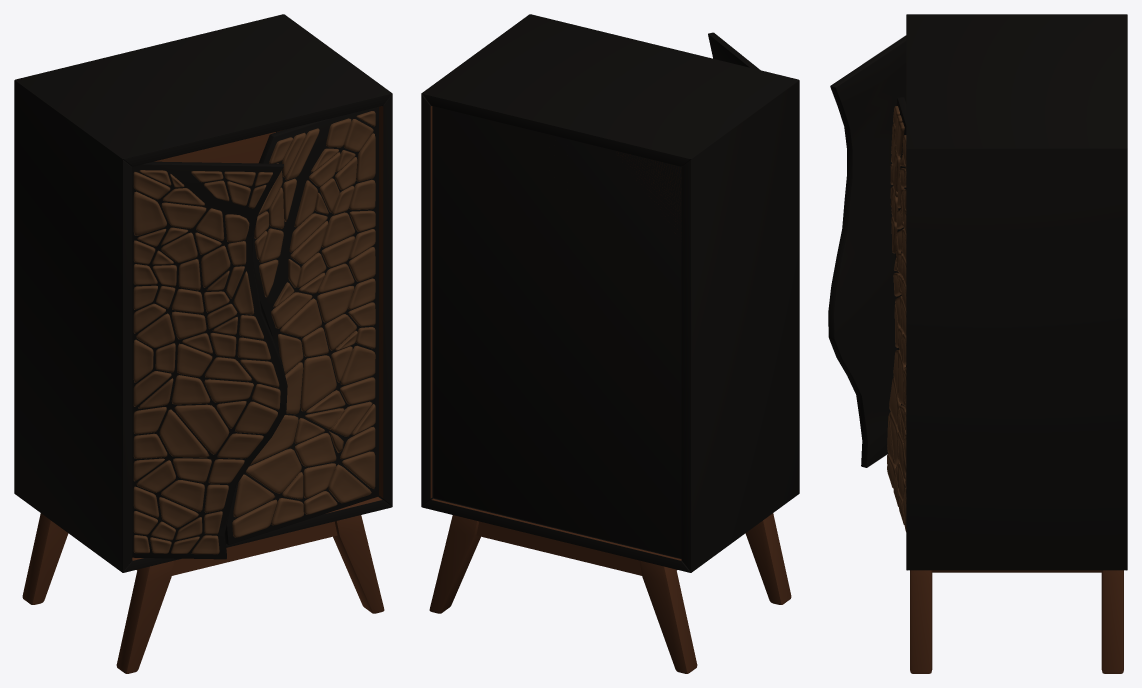
File: Decor closet.fbx
3 views of the same model, side by side, from view 1: azimuth 30°, elevation 25°; view 2: azimuth 150°, elevation 25°; view 3: azimuth 270°, elevation 25° (orthographic).
Visible parts, largest first — view 1: decor closet, door decor closet L, door decor closet R, legs decor closet; view 2: decor closet, legs decor closet, door decor closet L; view 3: decor closet, door decor closet L, door decor closet R, legs decor closet.
Boxes of the visible parts, left/top/right/bottom form: decor closet: left=14, top=14, right=392, bottom=572; door decor closet L: left=131, top=161, right=287, bottom=559; door decor closet R: left=225, top=106, right=378, bottom=544; legs decor closet: left=22, top=513, right=384, bottom=673; decor closet: left=421, top=14, right=799, bottom=572; legs decor closet: left=429, top=513, right=791, bottom=673; door decor closet L: left=708, top=32, right=760, bottom=70; decor closet: left=906, top=14, right=1127, bottom=570; door decor closet L: left=828, top=35, right=906, bottom=467; door decor closet R: left=887, top=97, right=906, bottom=531; legs decor closet: left=910, top=570, right=1123, bottom=673.
Bounding box in the file's own units: 86.25 × 158 × 81.12.
